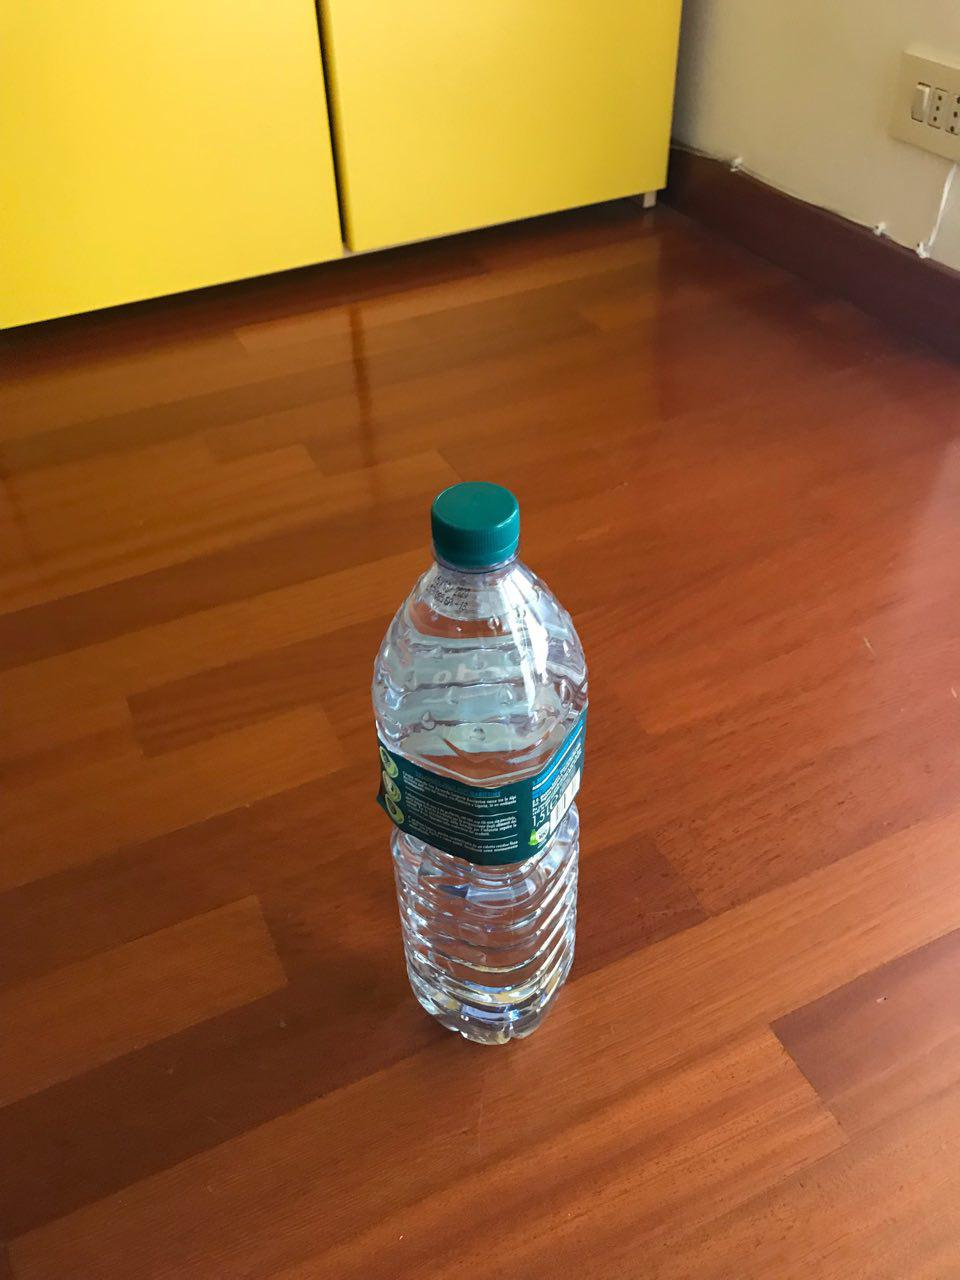san_bernardo: (369, 479, 591, 1048)
